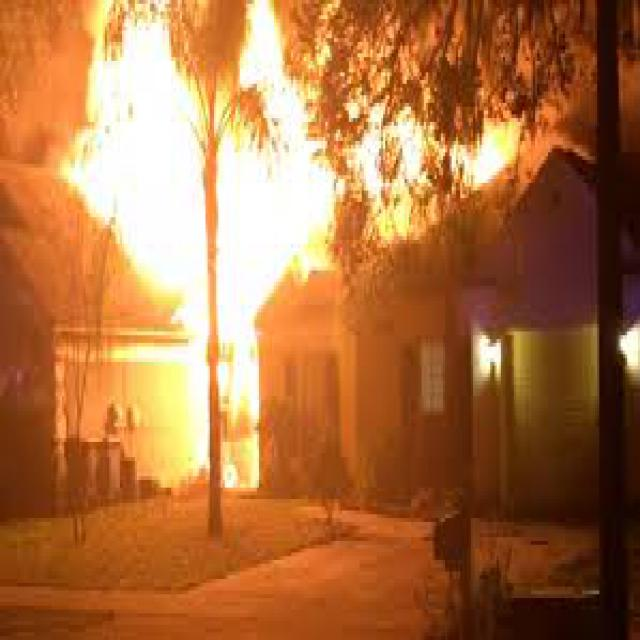fire: (92, 4, 317, 499)
